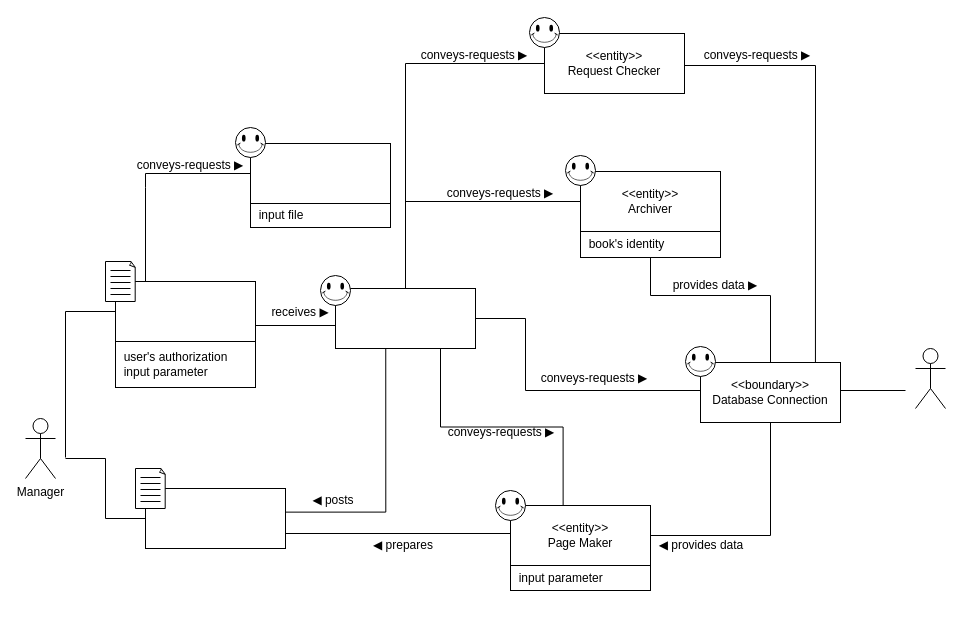
Image size: 973x633. Some labels were removed from this diagram. Here are the shapes that lost their labels. From the top down, the box of each, then its label:
(250, 142, 390, 204): <<entity>> Local Connection
(114, 280, 256, 342): <<entity>> Book Add Request
(334, 288, 476, 348): <<control>> Controller
(914, 348, 946, 408): Database
(144, 488, 286, 548): <<boundary>> Interface Page
